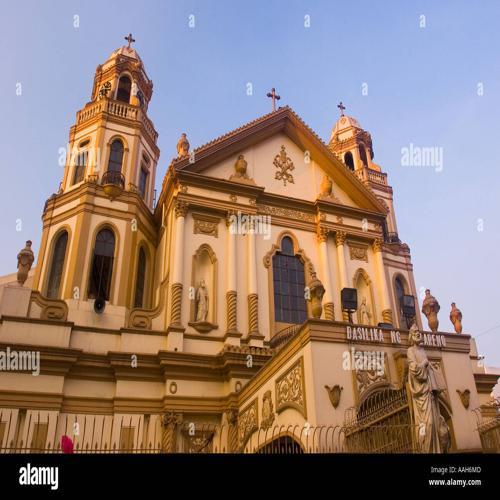Quiapo Church: (26, 18, 456, 441)
